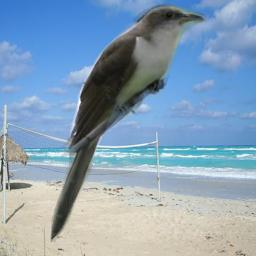Cuckoo: (43, 2, 206, 246)
